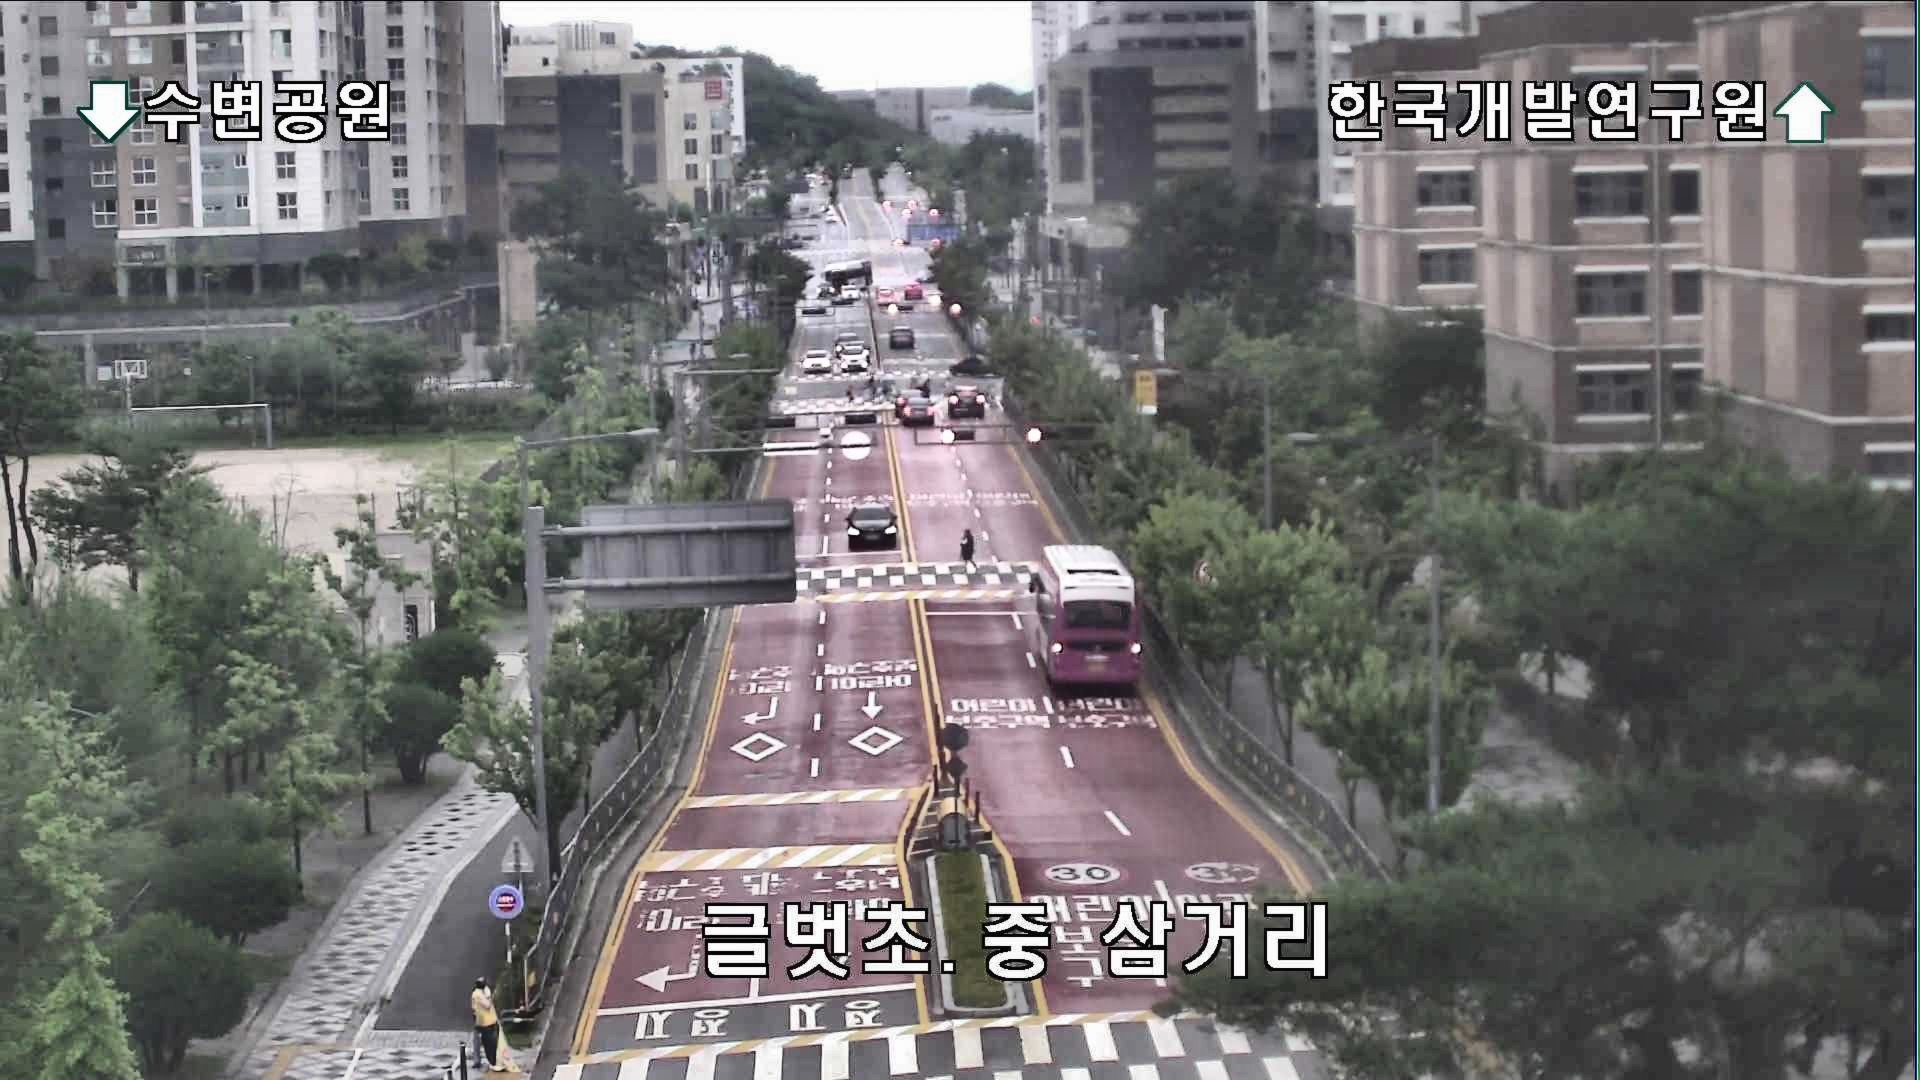crosswalk: (956, 527, 980, 574)
sidewalk: (468, 973, 506, 1075)
